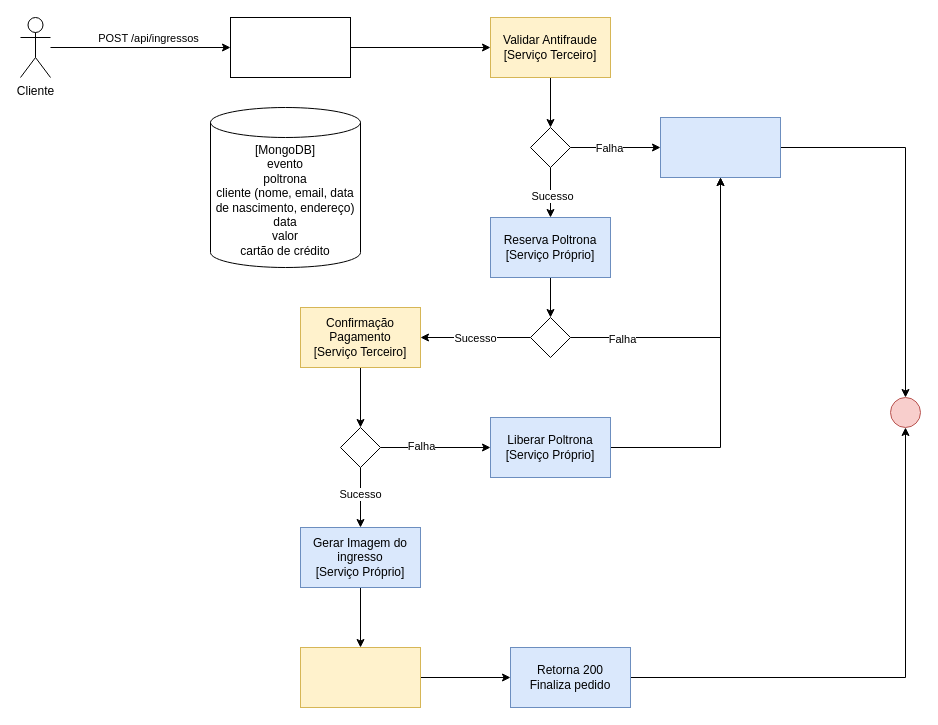
Some shapes in this 938 by 725 pixel diagram are drawn without their labels. Here are the shapes that lost their labels. From the top down, the centre of each, then its label:
At (x=290, y=47): "backend [API Rest]".
At (x=720, y=147): "Retorna reprovado, cancelar pedido".
At (x=360, y=677): "Enviar email do ingresso [Serviço Terceiro]".
